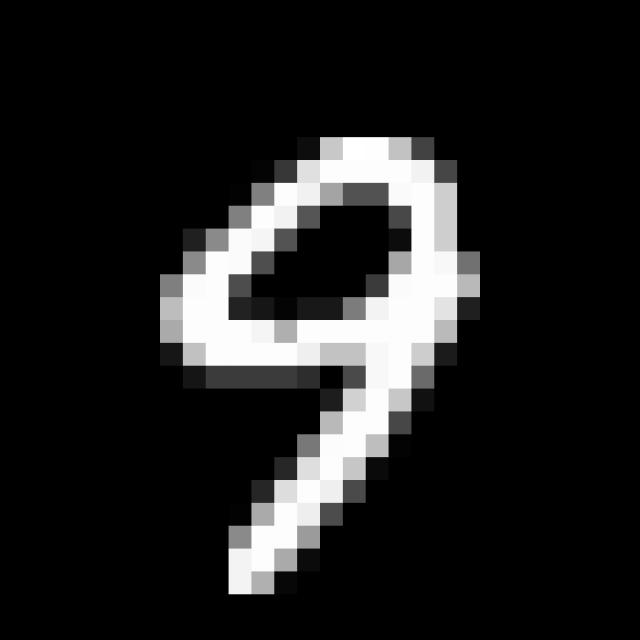nine -9-: (155, 123, 489, 597)
